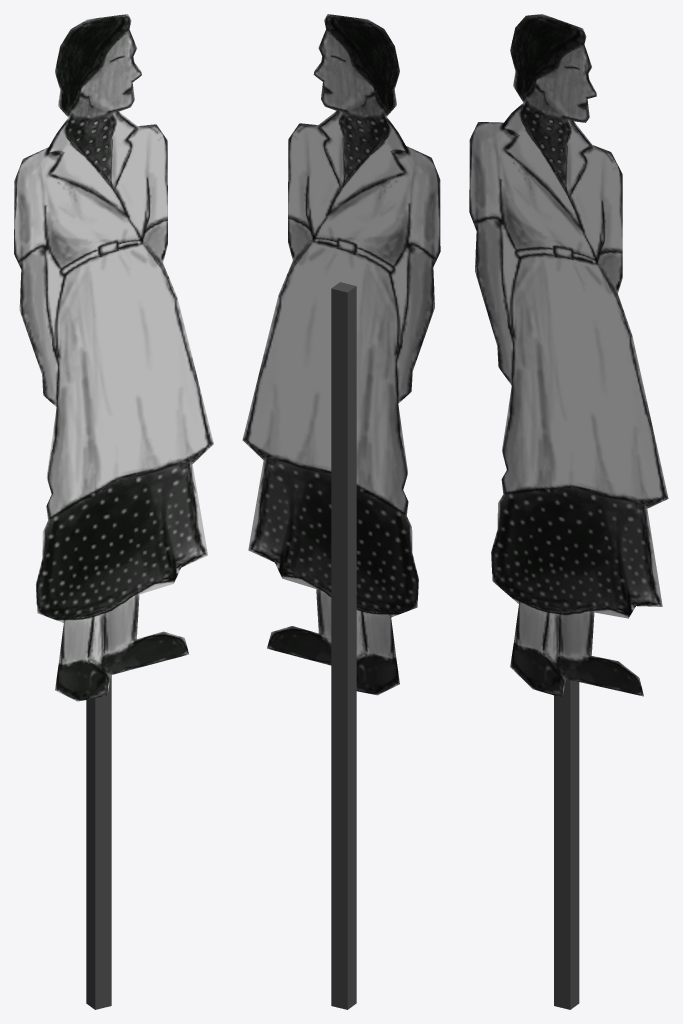
The model's file is Depression_Women1.fbx.
3 renders of one model, left to right at view 1: azimuth 30°, elevation 25°; view 2: azimuth 150°, elevation 25°; view 3: azimuth 330°, elevation 25°, orthographic.
Parts seen in each view (by area): view 1: pCube1, pCube2; view 2: pCube1, pCube2; view 3: pCube1, pCube2.
Boxes of the visible parts, x1,y1,x2,y2 form: pCube1: [14, 14, 213, 701]; pCube2: [86, 675, 111, 1009]; pCube1: [242, 14, 440, 695]; pCube2: [331, 282, 356, 1009]; pCube1: [469, 14, 668, 697]; pCube2: [554, 679, 579, 1009].
Size of the model in its own units: 0.0132 by 0.0625 by 0.00123.
Materials: 2 (1 with a texture image).
